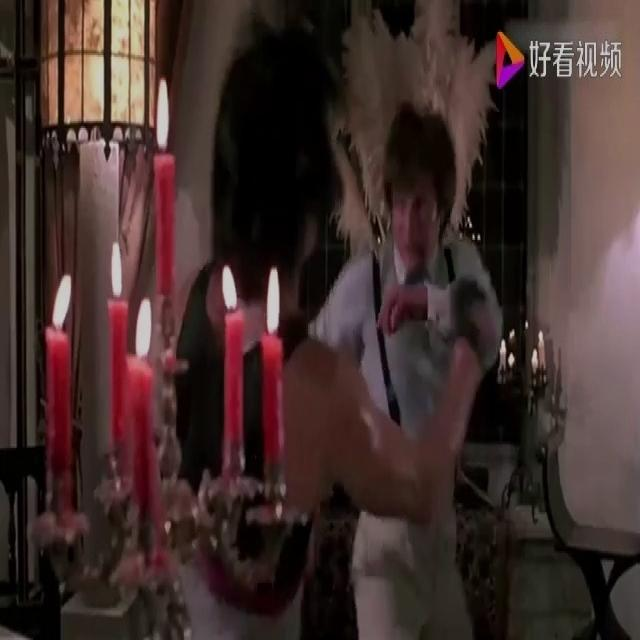fight: (159, 9, 502, 638)
